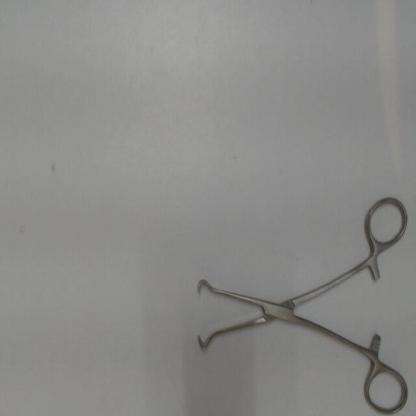Babcock Tissue Forceps: (186, 189, 413, 415)
